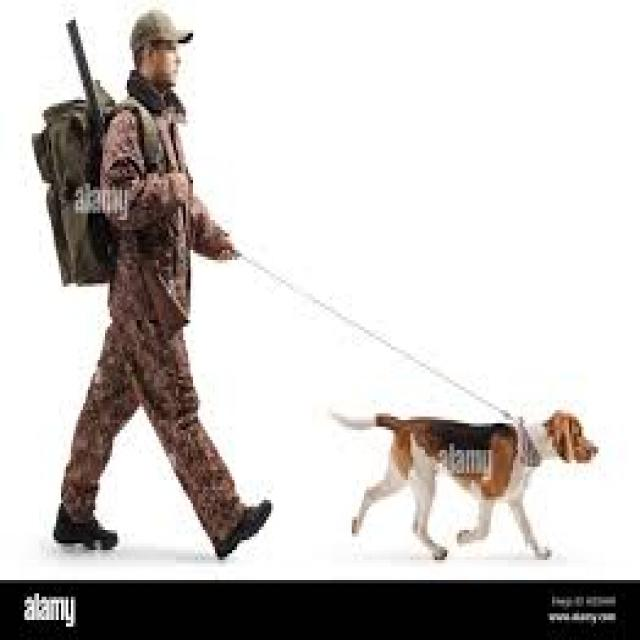Dog: (319, 394, 604, 569)
